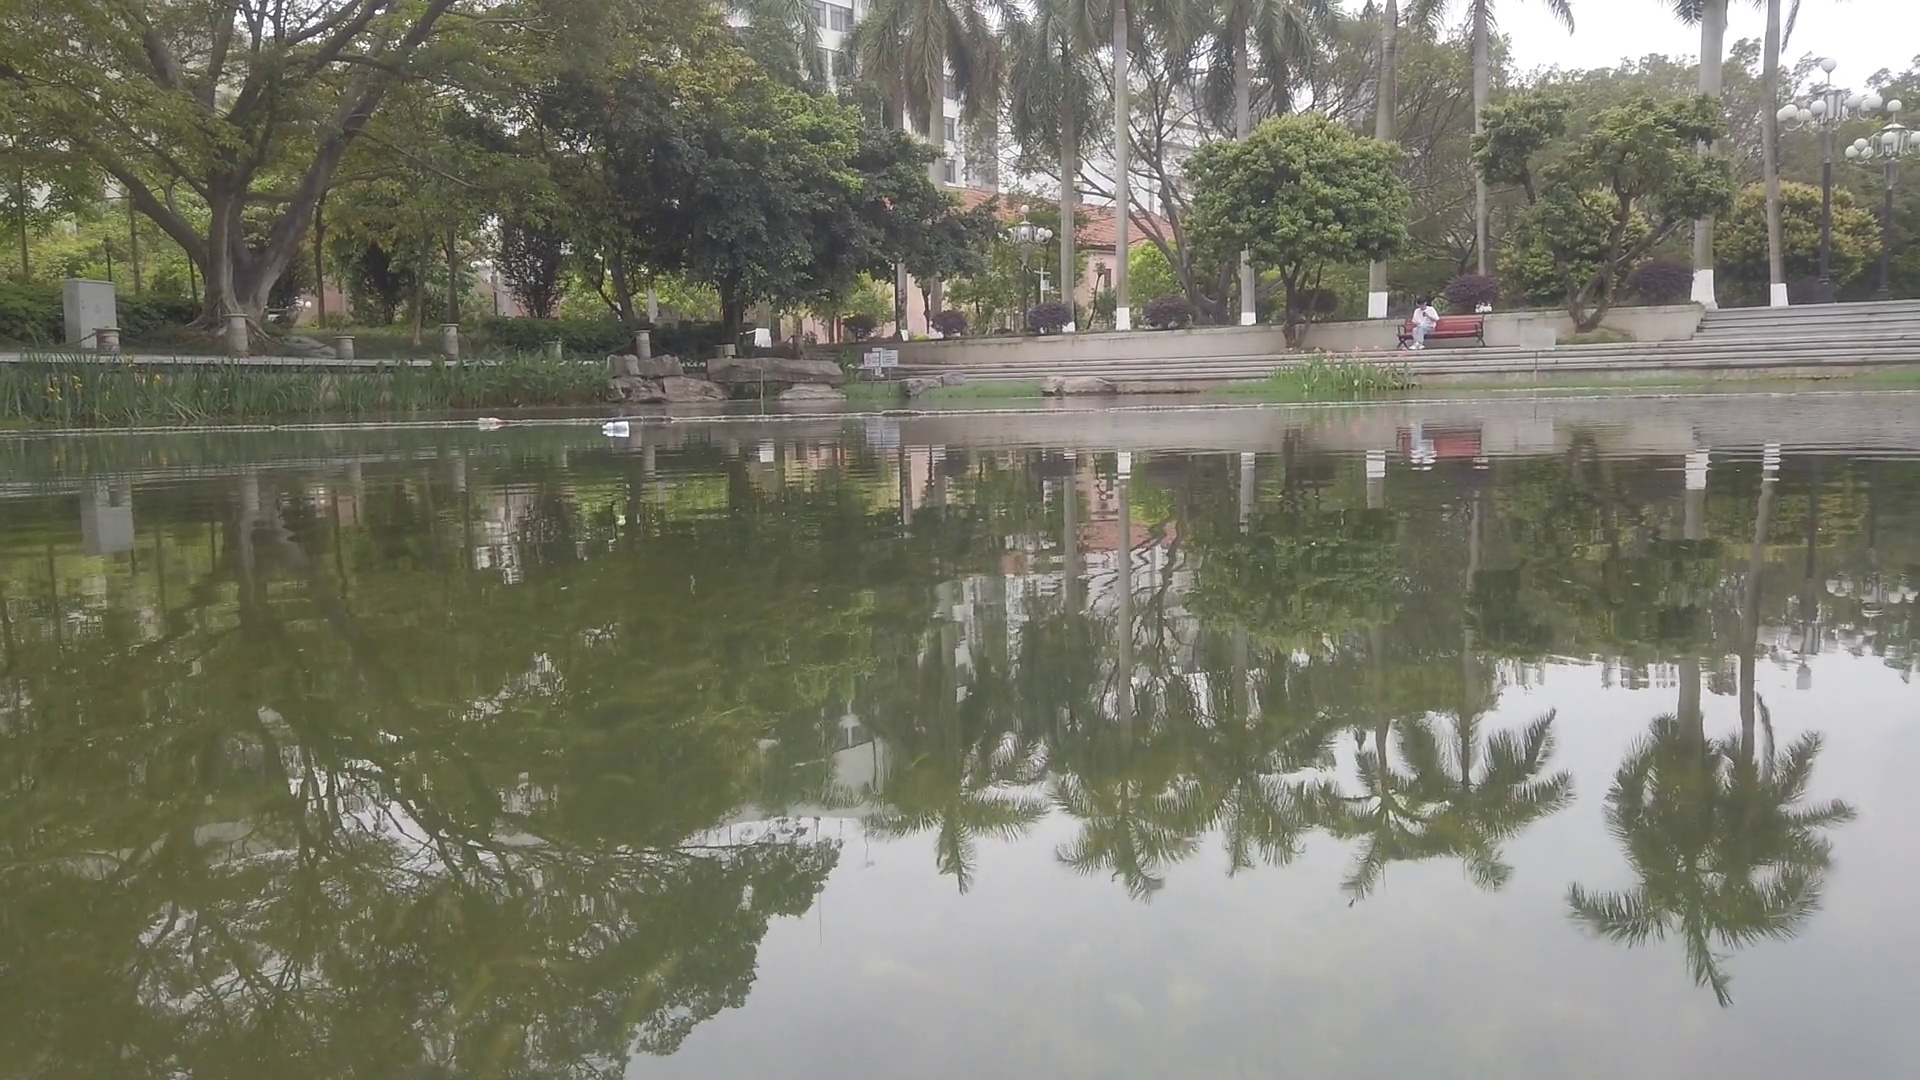bottle: (603, 421, 630, 433), (477, 415, 505, 425)
